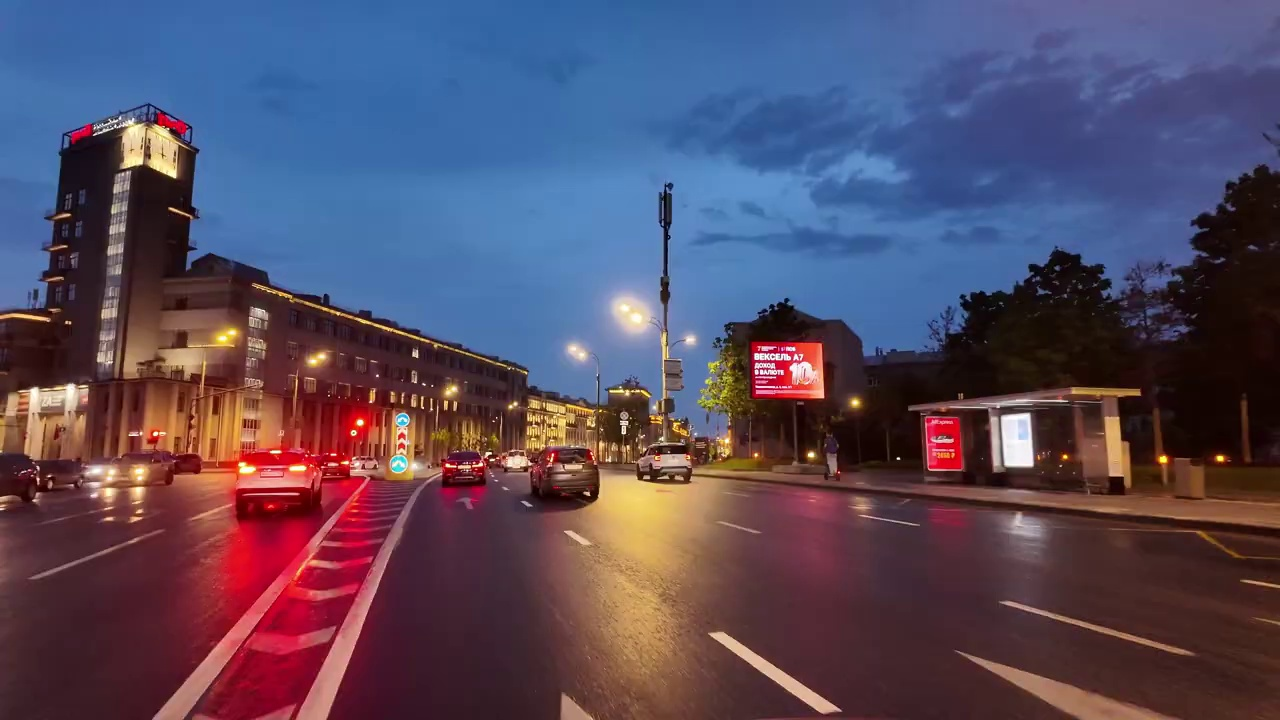acesa: (615, 299, 649, 331), (565, 342, 589, 364)
